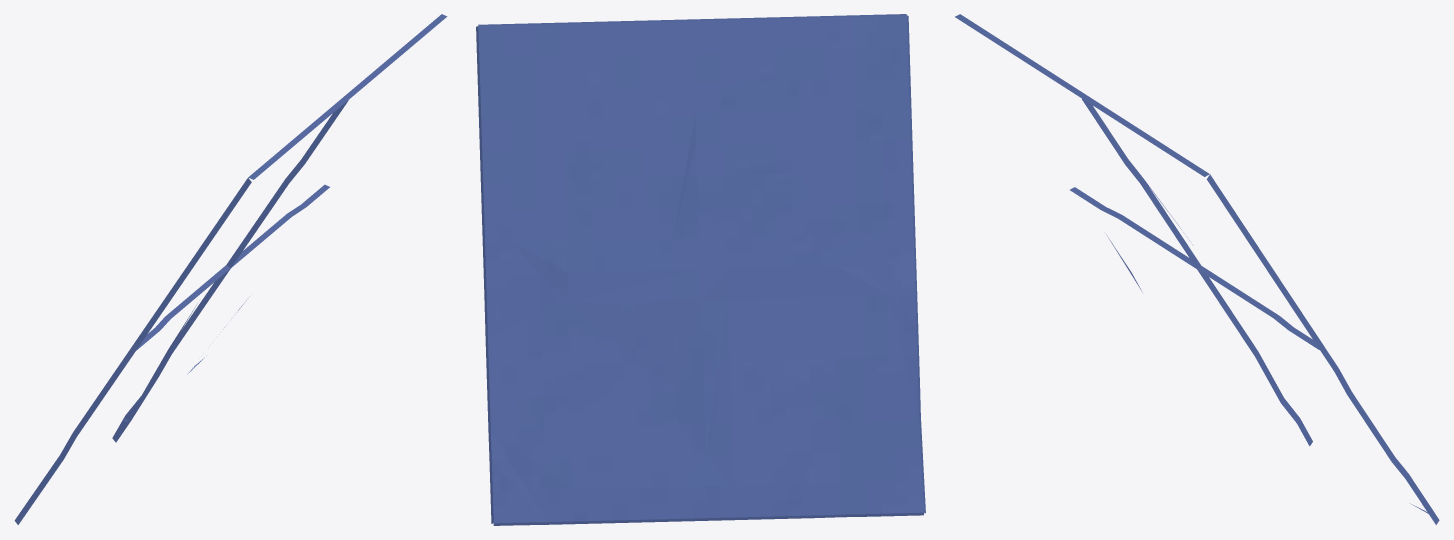
3 views of the same model, side by side, from view 1: azimuth 30°, elevation 25°; view 2: azimuth 150°, elevation 25°; view 3: azimuth 270°, elevation 25° (orthographic). The views are drawn at different scales.
Bounding box in the file's own units: 79300 × 67849 × 71784.
Materials: 1 (1 with a texture image).
